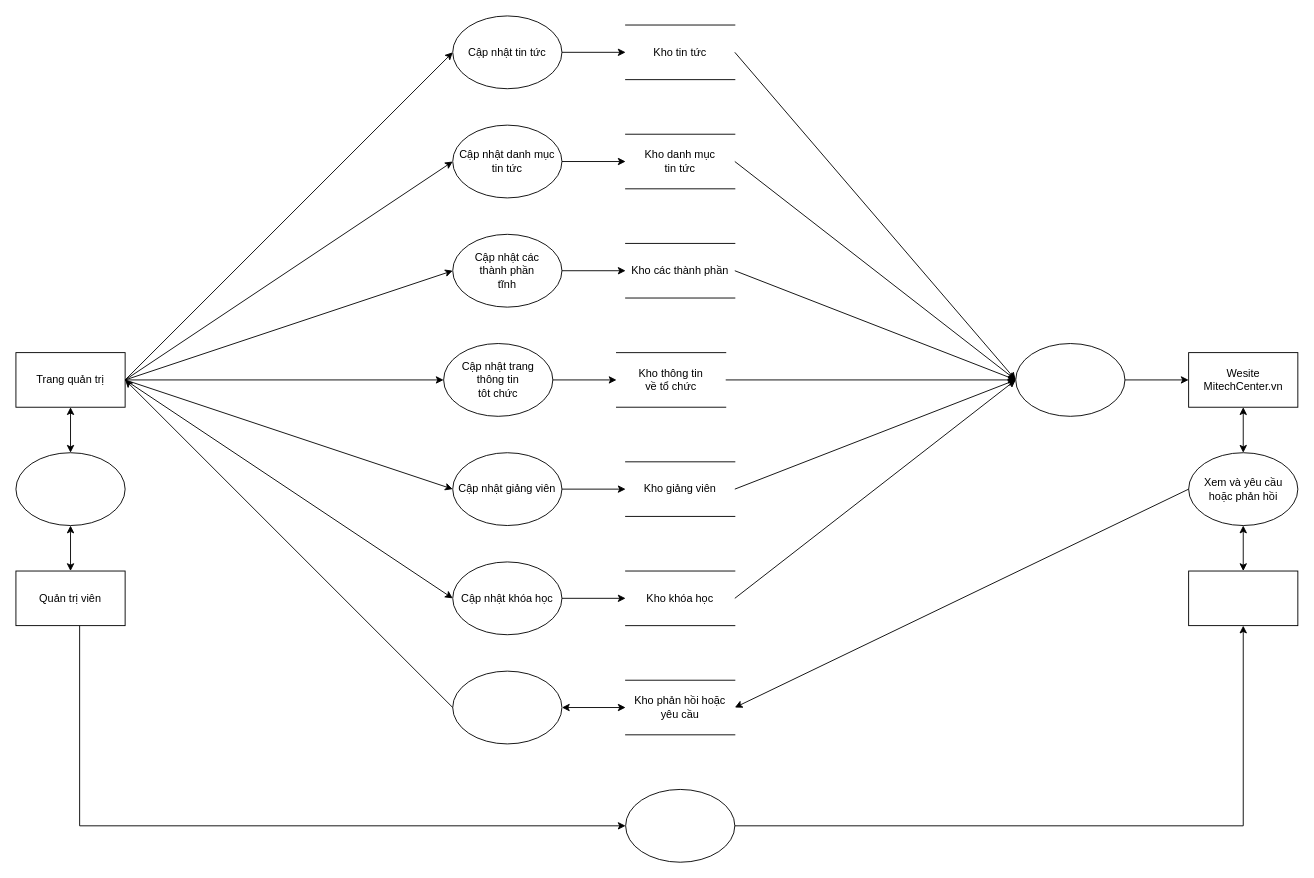
The diagram is 1314 pixels wide and 878 high, and some of its shapes have lost their labels. Here are the shapes that lost their labels. From the top down, the centre of each, then its label:
(1070,379): Lấy và hiển thị dữ liệu
(70,489): Tương tác đến trang quản trị
(1243,598): Người dùng
(507,707): Lấy và hiển thị phản hồi
(680,825): Phản hồi trực tiếp
